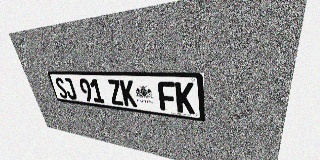1: (88, 79, 105, 103)
9: (78, 78, 94, 102)
F: (157, 81, 177, 112)
J: (62, 78, 78, 100)
K: (175, 82, 195, 114), (119, 80, 137, 107)
S: (54, 77, 69, 99)
Z: (107, 79, 124, 106)
